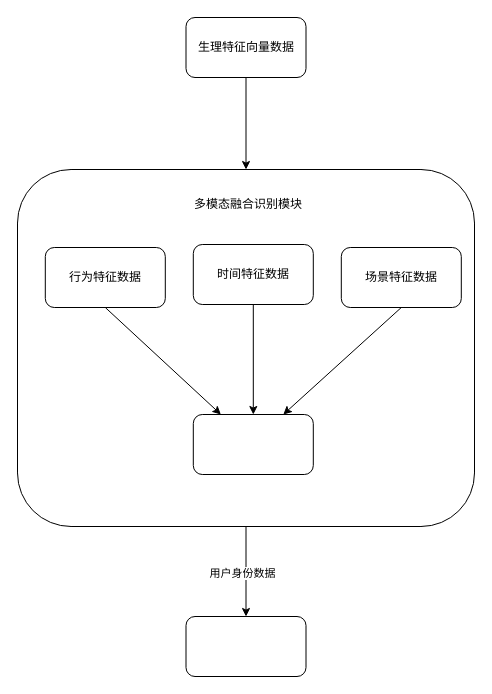
This 492x694 diagram has some shape labels left out. Here are the shapes that lost their labels. From the top down, the centre of each, then its label:
At point 252,444: "轻量端侧计算模型".
At point 245,646: "用户画像建模模块".
